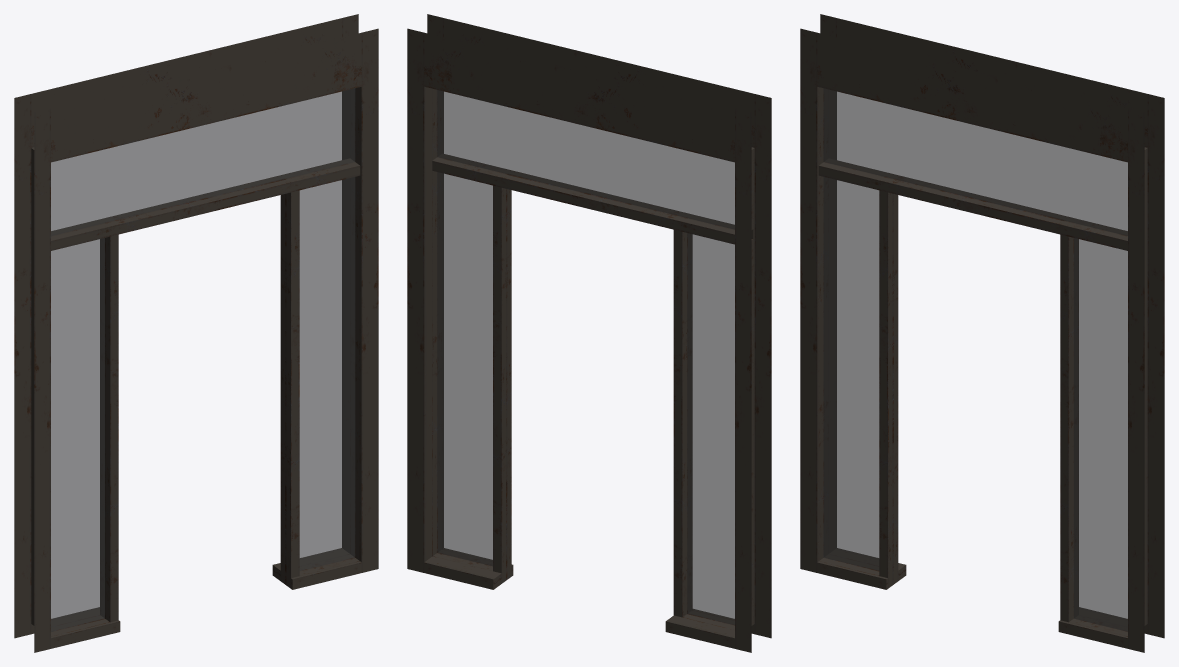
The model's file is door_frame_metal_single.glb.
The picture shows the model from 3 angles, left to right: view 1: azimuth 30°, elevation 25°; view 2: azimuth 150°, elevation 25°; view 3: azimuth 330°, elevation 25°; orthographic projection.
Parts seen in each view (by area): view 1: DoorFrame_Metal_Single; view 2: DoorFrame_Metal_Single; view 3: DoorFrame_Metal_Single.
Part boxes in pixels (<box>): DoorFrame_Metal_Single: <box>14,14,378,652</box>; DoorFrame_Metal_Single: <box>407,14,771,652</box>; DoorFrame_Metal_Single: <box>800,14,1164,652</box>.
Bounding box in the file's own units: 2 × 3 × 0.2.
Materials: 2 (1 with a texture image).
